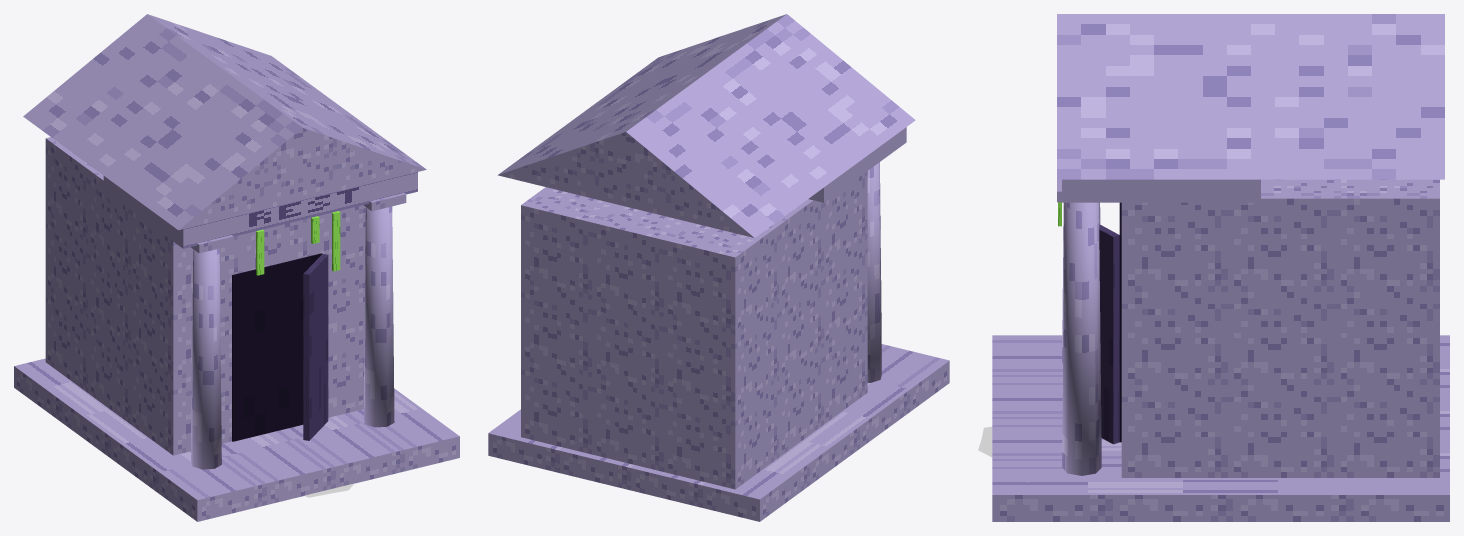
File: Mausoleum.fbx
3 renders of one model, left to right at view 1: azimuth 30°, elevation 25°; view 2: azimuth 150°, elevation 25°; view 3: azimuth 270°, elevation 25°, orthographic. The views are drawn at different scales.
Visible parts, largest first — view 1: Mausoleum pediment, Mausoleum walls, Mausoleum step, Mausoleum doorway, Mausoleum column 1, Mausoleum column -1, Mausoleum lintel, Mausoleum door.001, Mausoleum goo drip 2; view 2: Mausoleum walls, Mausoleum pediment, Mausoleum step, Mausoleum column -1, Mausoleum lintel; view 3: Mausoleum walls, Mausoleum pediment, Mausoleum step, Mausoleum column 1, Mausoleum lintel, Mausoleum door.001, Mausoleum doorway.
Part boxes in pixels (left/top/right/bottom): Mausoleum pediment: left=23, top=14, right=426, bottom=230; Mausoleum walls: left=45, top=137, right=365, bottom=455; Mausoleum step: left=14, top=358, right=459, bottom=521; Mausoleum doorway: left=232, top=253, right=322, bottom=441; Mausoleum column 1: left=363, top=206, right=394, bottom=427; Mausoleum column -1: left=191, top=248, right=221, bottom=469; Mausoleum lintel: left=103, top=172, right=417, bottom=248; Mausoleum door.001: left=303, top=254, right=328, bottom=440; Mausoleum goo drip 2: left=332, top=211, right=340, bottom=271; Mausoleum walls: left=521, top=171, right=867, bottom=489; Mausoleum pediment: left=498, top=14, right=915, bottom=237; Mausoleum step: left=488, top=344, right=949, bottom=521; Mausoleum column -1: left=867, top=162, right=881, bottom=382; Mausoleum lintel: left=808, top=127, right=906, bottom=202; Mausoleum walls: left=1121, top=179, right=1439, bottom=477; Mausoleum pediment: left=1057, top=14, right=1444, bottom=179; Mausoleum step: left=992, top=335, right=1449, bottom=521; Mausoleum column 1: left=1062, top=202, right=1101, bottom=475; Mausoleum lintel: left=1062, top=179, right=1260, bottom=202; Mausoleum door.001: left=1099, top=224, right=1119, bottom=444; Mausoleum doorway: left=1119, top=202, right=1121, bottom=442.
Bounding box in the file's own units: 3.8 × 4.75 × 4.74.
Materials: 6 (5 with a texture image).
